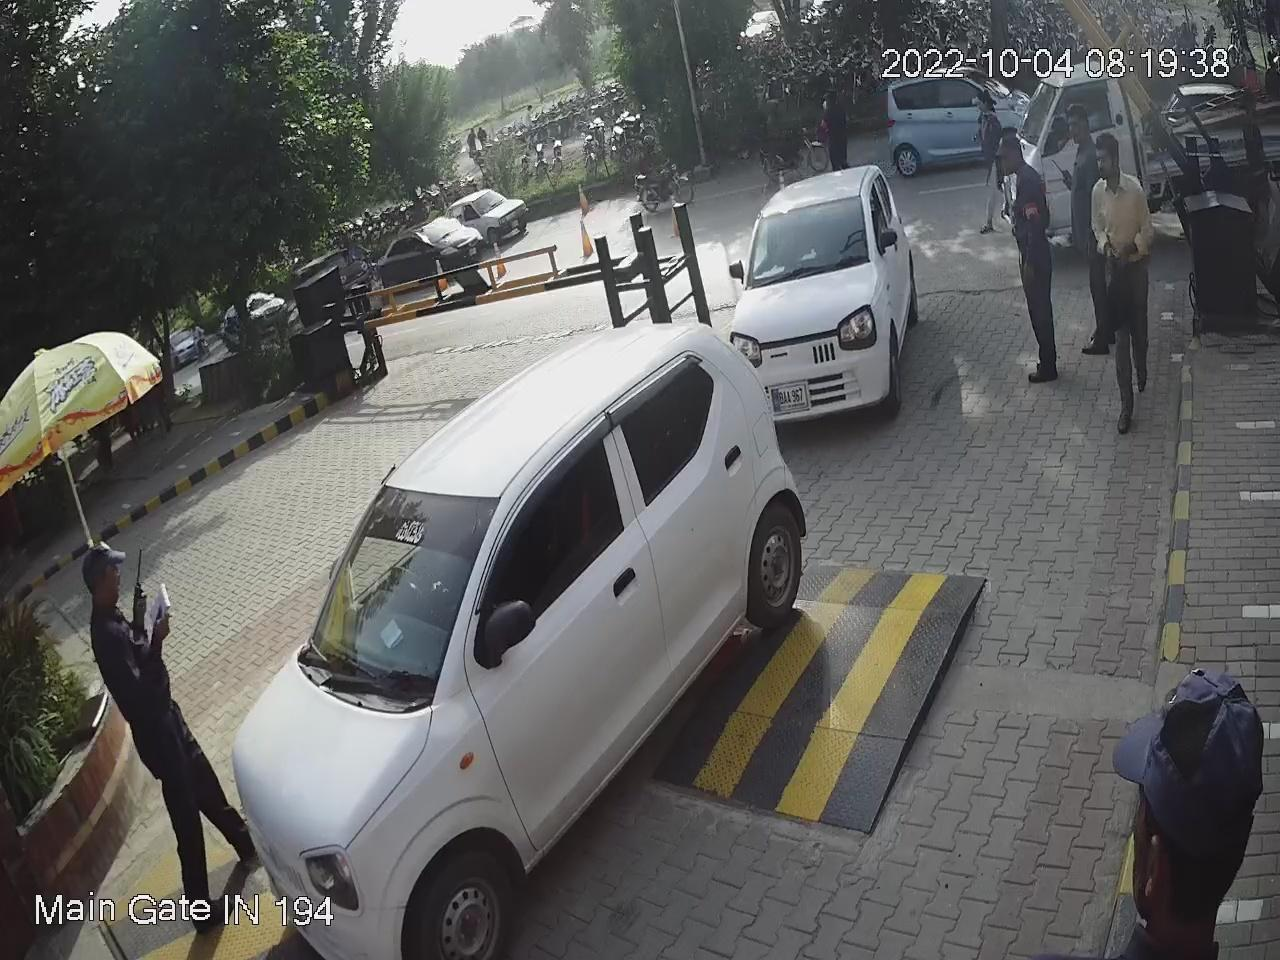windshield: (288, 478, 513, 703), (743, 188, 871, 290)
